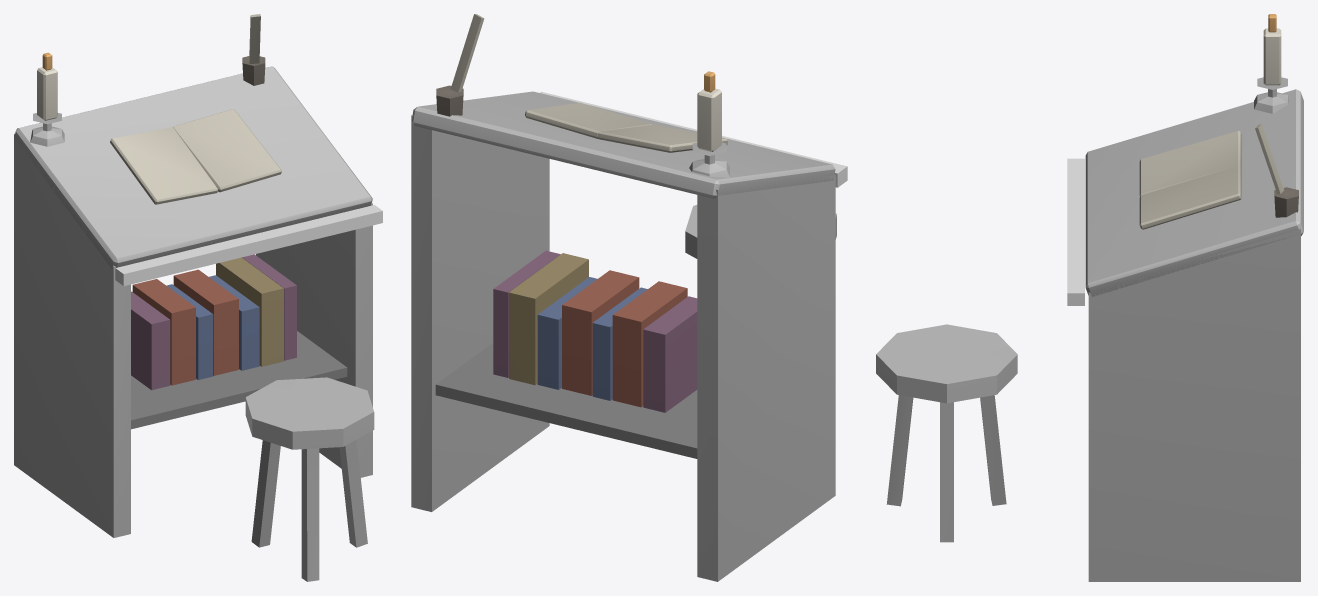
Rendered from writing_desk_1.glb.
3 views of the same model, side by side, from view 1: azimuth 30°, elevation 25°; view 2: azimuth 150°, elevation 25°; view 3: azimuth 270°, elevation 25° (orthographic). The views are drawn at different scales.
Visible parts, largest first — view 1: book; view 2: book; view 3: book.
Part boxes in pixels (x1,y1,x2,y2): book: (14,14,382,581); book: (411,14,847,581); book: (876,14,1303,581).
Size of the model in its own units: 0.9 by 1.38 by 1.21.
